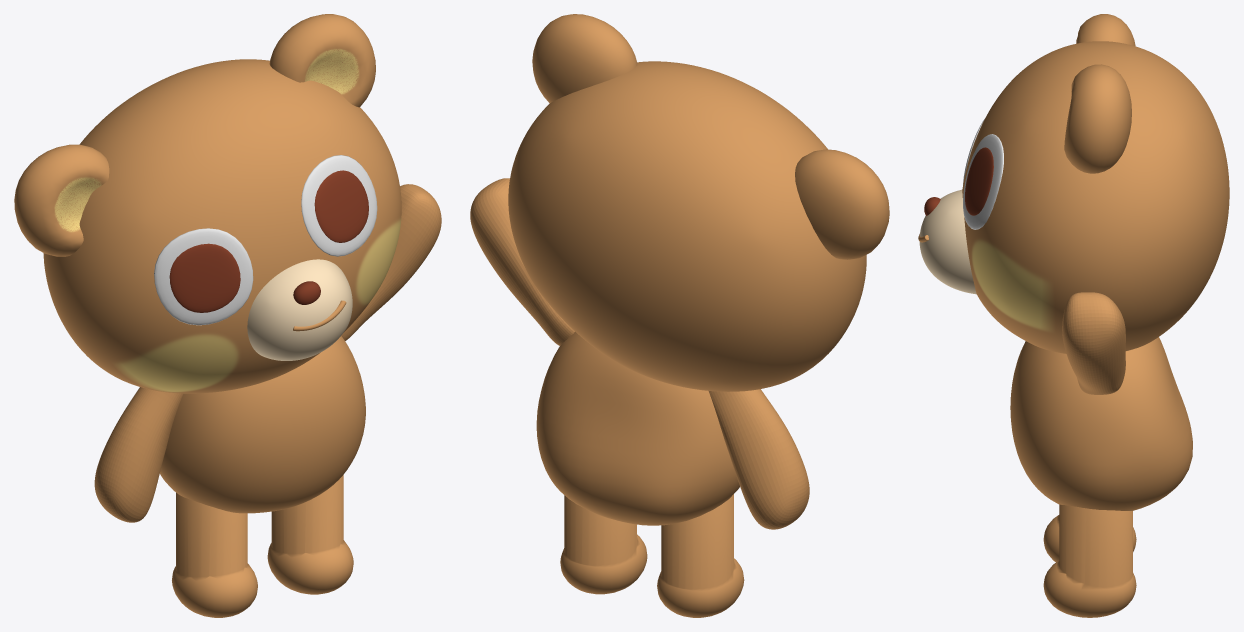
The model's file is logicbear_3d_2.glb.
3 views of the same model, side by side, from view 1: azimuth 30°, elevation 25°; view 2: azimuth 150°, elevation 25°; view 3: azimuth 270°, elevation 25° (orthographic). The views are drawn at different scales.
Parts seen in each view (by area): view 1: Cube.011, Cube.017, Cube.012, Cylinder.003, Cube.014, Cube.018, Cylinder.004, Cube.016, Cube.015, Cube.019; view 2: Cube.011, Cube.017, Cube.012, Cube.018, Cylinder.003, Cylinder.004, Cube.019; view 3: Cube.011, Cube.017, Cylinder.004, Cube.012, Cube.019, Cube.014, Cube.015, Cube.016, Cylinder.003.
Boxes of the visible parts, x1,y1,x2,y2 form: Cube.011: [43, 59, 401, 393]; Cube.017: [160, 336, 365, 513]; Cube.012: [14, 14, 375, 256]; Cylinder.003: [172, 492, 257, 617]; Cube.014: [247, 259, 352, 360]; Cube.018: [94, 387, 183, 522]; Cylinder.004: [267, 475, 353, 594]; Cube.016: [169, 170, 368, 312]; Cube.015: [154, 155, 377, 325]; Cube.019: [341, 184, 441, 340]; Cube.011: [508, 61, 866, 391]; Cube.017: [536, 331, 739, 525]; Cube.012: [532, 14, 889, 259]; Cube.018: [708, 389, 809, 529]; Cylinder.003: [657, 494, 744, 617]; Cylinder.004: [560, 495, 647, 594]; Cube.019: [470, 178, 574, 345]; Cube.011: [962, 41, 1229, 353]; Cube.017: [1010, 337, 1192, 510]; Cylinder.004: [1043, 504, 1136, 617]; Cube.012: [1064, 14, 1135, 173]; Cube.019: [1062, 292, 1125, 394]; Cube.014: [919, 189, 976, 294]; Cube.015: [963, 119, 1003, 229]; Cube.016: [965, 147, 993, 215]; Cylinder.003: [1043, 515, 1136, 561].
Size of the model in its own units: 1.58 by 2.07 by 1.06.
Materials: 7 (3 with a texture image).
